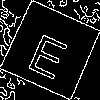E: (25, 25, 74, 81)
